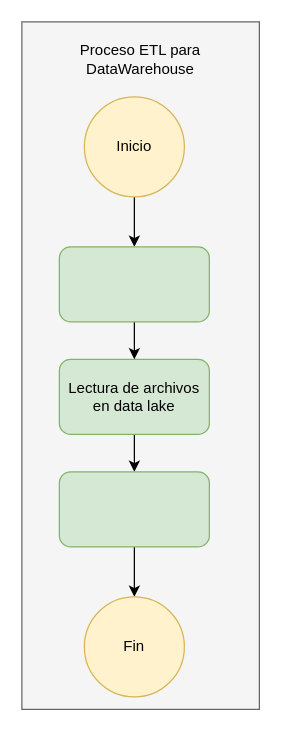
This 281x731 diagram has some shape labels left out. The shapes that lost their labels are listed below. From the top down, each one's centre as x and y in pixels, then its label:
At [133,284]: "Definicion de esquema para datawrehouse".
At [133,509]: "Escritura de datos en datawarehouse".
